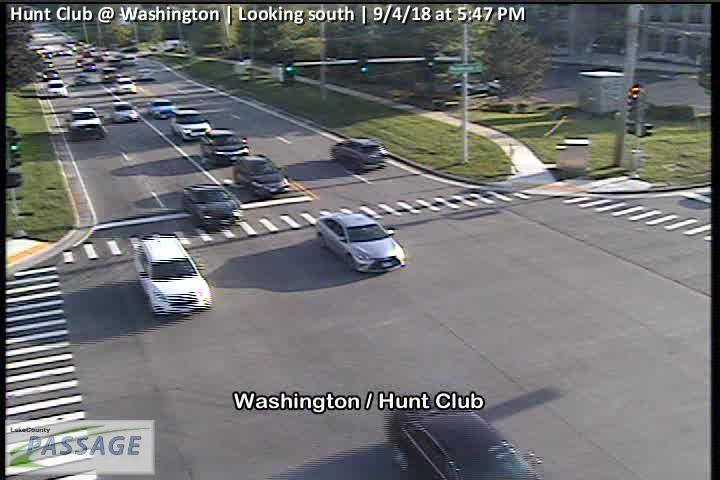SUV: (134, 233, 213, 316), (329, 138, 385, 172)
Sedan: (384, 398, 539, 480), (316, 212, 406, 272), (183, 184, 240, 231), (233, 156, 288, 197), (199, 130, 248, 163), (172, 109, 211, 139), (69, 108, 103, 137), (108, 102, 137, 122), (148, 99, 174, 117), (46, 78, 67, 96), (113, 78, 136, 92)
